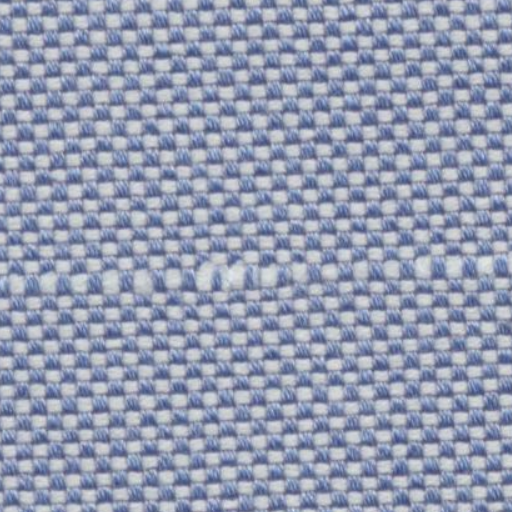DaiSha: (9, 242, 504, 298)
